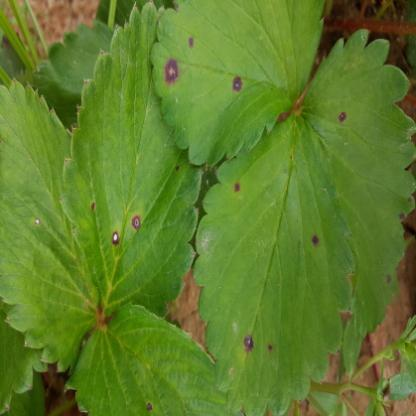Strawberry_Leaf_Spot: (193, 105, 354, 415), (58, 0, 202, 319), (298, 27, 415, 338), (0, 78, 104, 375), (149, 0, 327, 168), (63, 304, 238, 415)
